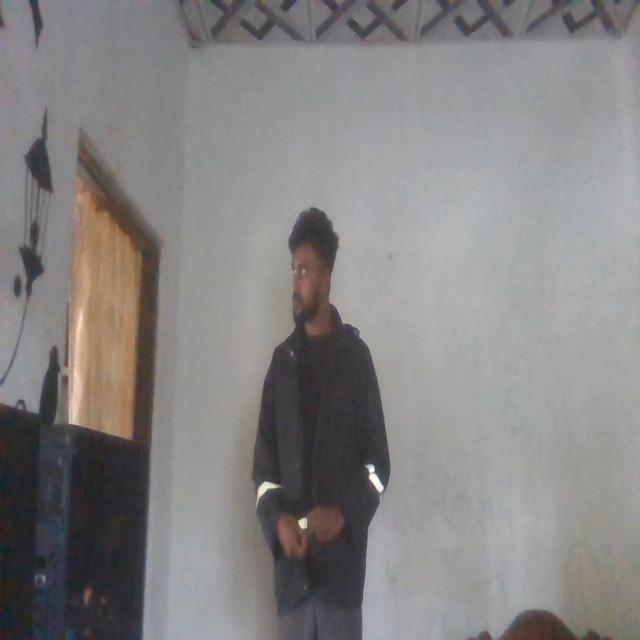Jacket_Wearer: (253, 311, 389, 602)
Person: (251, 202, 400, 640)
